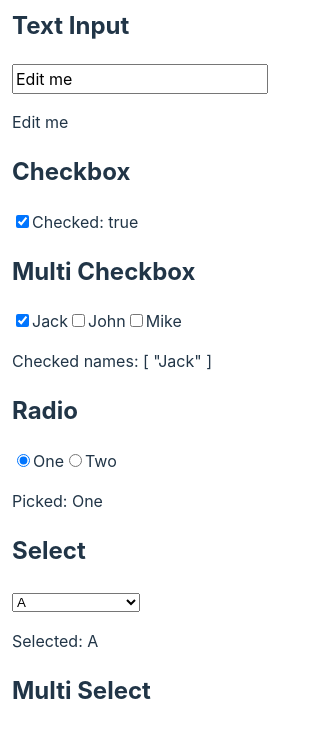
FormBindings › 単一チェックボックスが v-model で真偽値にバインディングされる
expect the label with id "checked-output" reads "Checked: true": met, box [32, 212, 138, 232]
Click the checkbox with id "checkbox".
click(22, 221)  # box [16, 215, 29, 228]
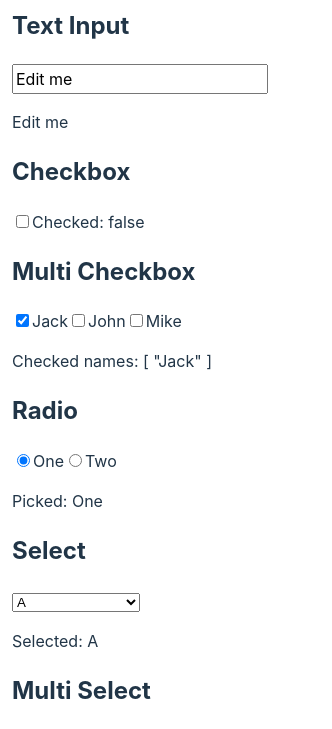
expect the label with id "checked-output" reads "Checked: false": met, box [32, 212, 145, 232]
